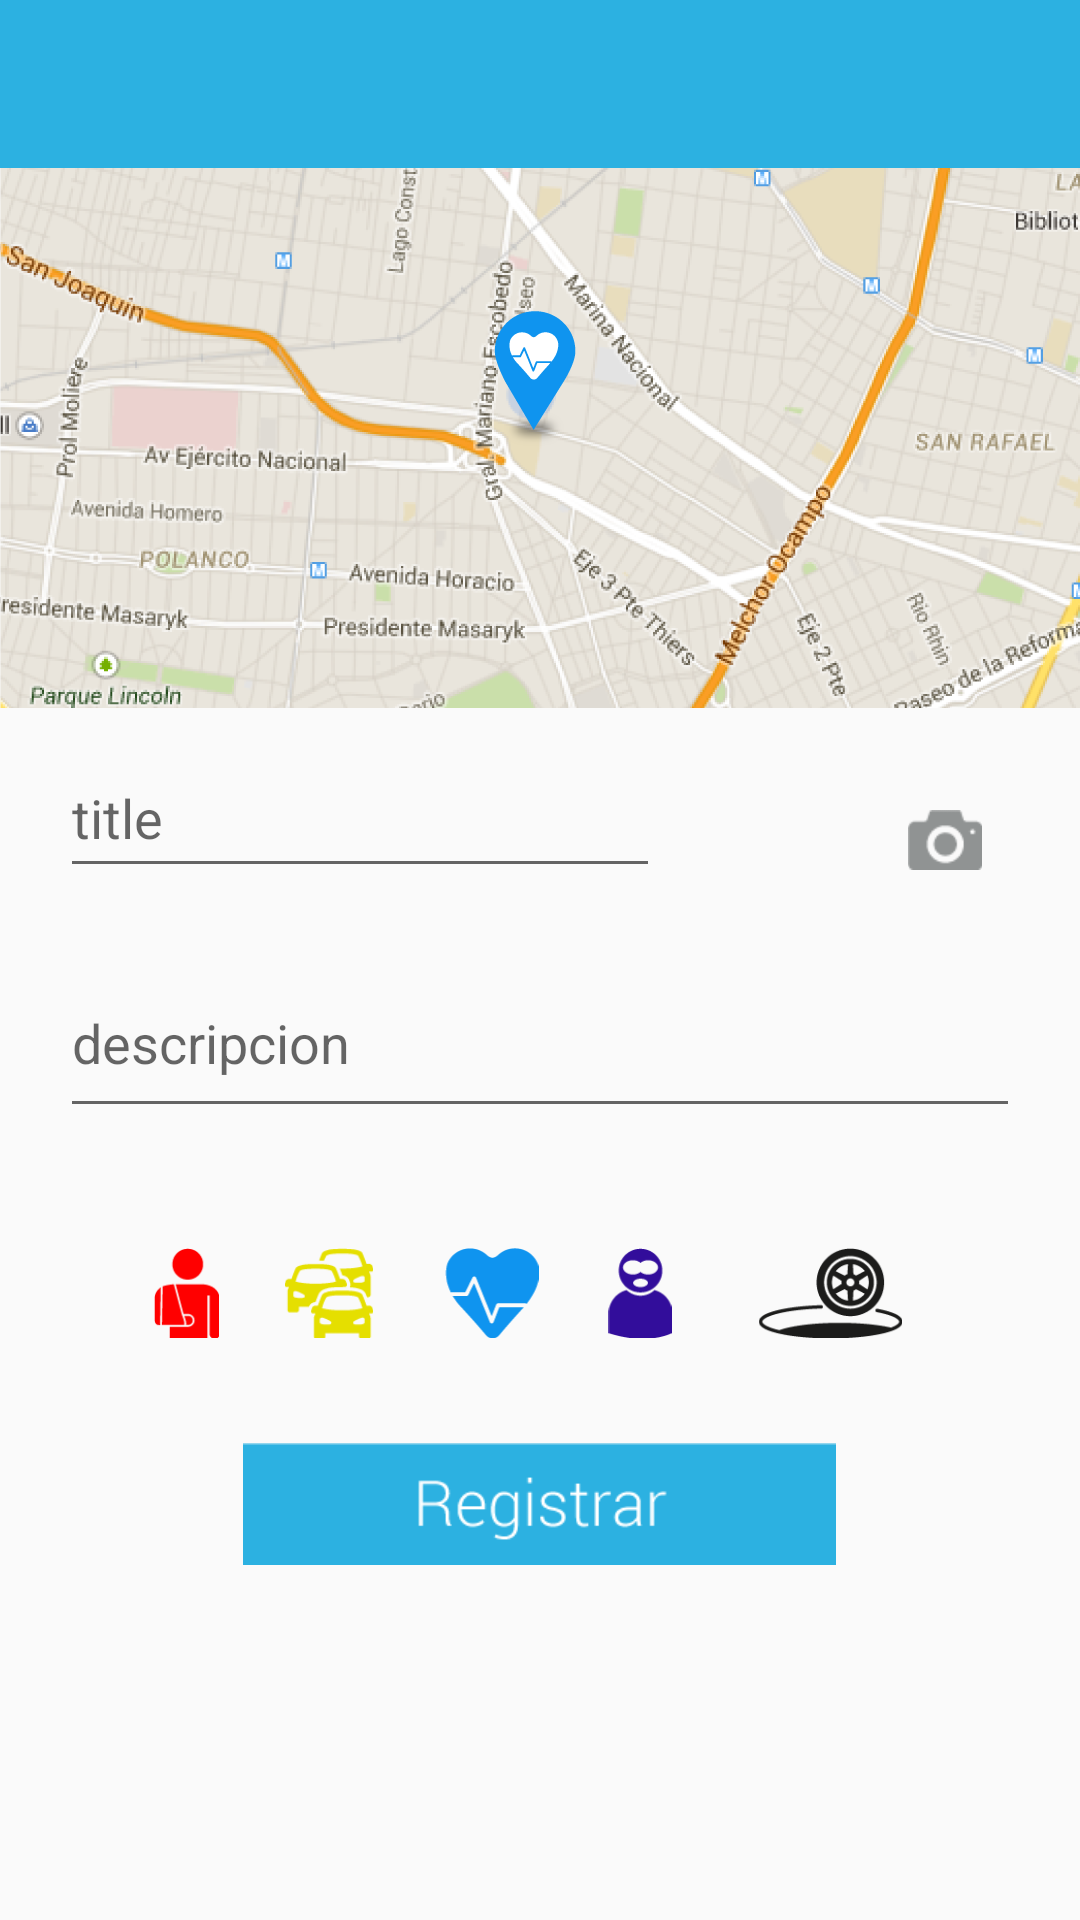

Screen size 1080 × 1920. Icon name, then its center in pixels as [x,y]:
accidente: [186,1293]
baches: [830,1293]
robo: [640,1293]
salud: [492,1293]
vial: [329,1293]
